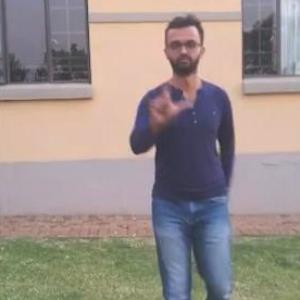land_hand: (146, 74, 194, 130)
